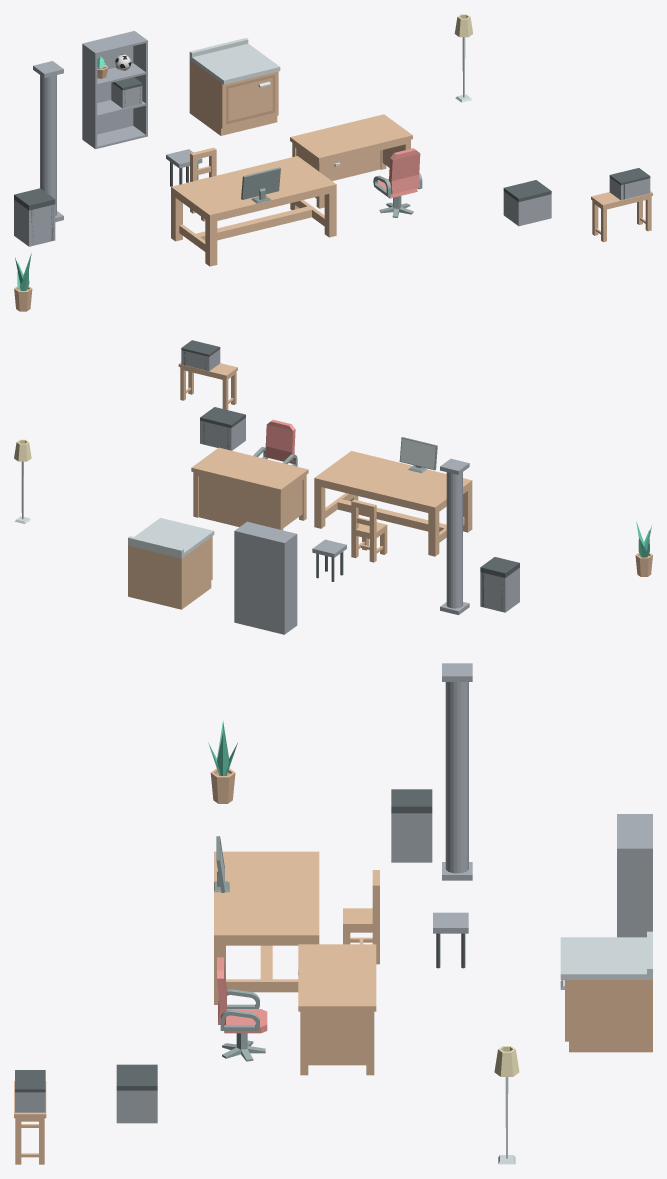
The picture shows the model from 3 angles, top to bottom: view 1: azimuth 30°, elevation 25°; view 2: azimuth 150°, elevation 25°; view 3: azimuth 270°, elevation 25°; orthographic projection. The views are drawn at different scales.
Visible parts, largest first — view 1: table_green__table(Clone), cabinet_blue__kitchenCabinet(Clone), desk_blue__desk(Clone), column_cyan__column_cyan shaft, cabinet_blue__door, deskchair_black__chair, shelf_orange__shelf_orange side_l, bin_gray__bin_gray shell, shelf_orange__shelf_orange back, sidetable_brown__sideTable(Clone), crate_red__crate_red shell, monitor_gray__computerScreen(Clone) (+10 smaller); view 2: table_green__table(Clone), desk_blue__desk(Clone), cabinet_blue__kitchenCabinet(Clone), shelf_orange__shelf_orange back, column_cyan__column_cyan shaft, chair_cyan__chair(Clone), shelf_orange__shelf_orange side_l, bin_gray__bin_gray shell, deskchair_black__chair, sidetable_brown__sideTable(Clone), crate_red__crate_red shell, monitor_gray__computerScreen(Clone) (+6 smaller); view 3: table_green__table(Clone), cabinet_blue__kitchenCabinet(Clone), desk_blue__desk(Clone), column_cyan__column_cyan shaft, shelf_orange__shelf_orange side_r, bin_gray__bin_gray shell, deskchair_black__chair, chair_cyan__chair(Clone), crate_red__crate_red shell, sidetable_brown__sideTable(Clone), shelf_orange__shelf_orange board3, crate_red__crate_red lid (+4 smaller).
Part boxes in pixels (<box>): table_green__table(Clone): <box>171,156,336,266</box>; cabinet_blue__kitchenCabinet(Clone): <box>189,38,280,135</box>; desk_blue__desk(Clone): <box>290,114,412,208</box>; column_cyan__column_cyan shaft: <box>40,75,56,215</box>; cabinet_blue__door: <box>226,74,275,124</box>; deskchair_black__chair: <box>373,148,422,198</box>; shelf_orange__shelf_orange side_l: <box>82,43,97,149</box>; bin_gray__bin_gray shell: <box>14,200,55,246</box>; shelf_orange__shelf_orange back: <box>84,31,133,134</box>; sidetable_brown__sideTable(Clone): <box>591,191,652,242</box>; crate_red__crate_red shell: <box>503,191,551,226</box>; monitor_gray__computerScreen(Clone): <box>241,167,280,203</box>; table_green__table(Clone): <box>314,451,472,556</box>; desk_blue__desk(Clone): <box>191,447,308,530</box>; cabinet_blue__kitchenCabinet(Clone): <box>128,518,214,609</box>; shelf_orange__shelf_orange back: <box>236,531,282,634</box>; column_cyan__column_cyan shaft: <box>446,472,462,608</box>; chair_cyan__chair(Clone): <box>351,499,387,562</box>; shelf_orange__shelf_orange side_l: <box>282,533,297,634</box>; bin_gray__bin_gray shell: <box>480,568,519,612</box>; deskchair_black__chair: <box>253,419,297,466</box>; sidetable_brown__sideTable(Clone): <box>178,362,237,409</box>; crate_red__crate_red shell: <box>200,418,245,450</box>; monitor_gray__computerScreen(Clone): <box>399,437,437,473</box>; table_green__table(Clone): <box>214,851,319,1004</box>; cabinet_blue__kitchenCabinet(Clone): <box>560,931,652,1052</box>; desk_blue__desk(Clone): <box>298,944,376,1075</box>; column_cyan__column_cyan shaft: <box>445,682,468,873</box>; shelf_orange__shelf_orange side_r: <box>617,847,652,937</box>; bin_gray__bin_gray shell: <box>391,813,432,862</box>; deskchair_black__chair: <box>217,957,267,1033</box>; chair_cyan__chair(Clone): <box>343,870,379,964</box>; crate_red__crate_red shell: <box>116,1090,157,1123</box>; sidetable_brown__sideTable(Clone): <box>14,1081,46,1164</box>; shelf_orange__shelf_orange board3: <box>617,815,650,847</box>; crate_red__crate_red lid: <box>116,1064,157,1090</box>.
Size of the model in its own units: 8.56 by 2.2 by 6.24.
